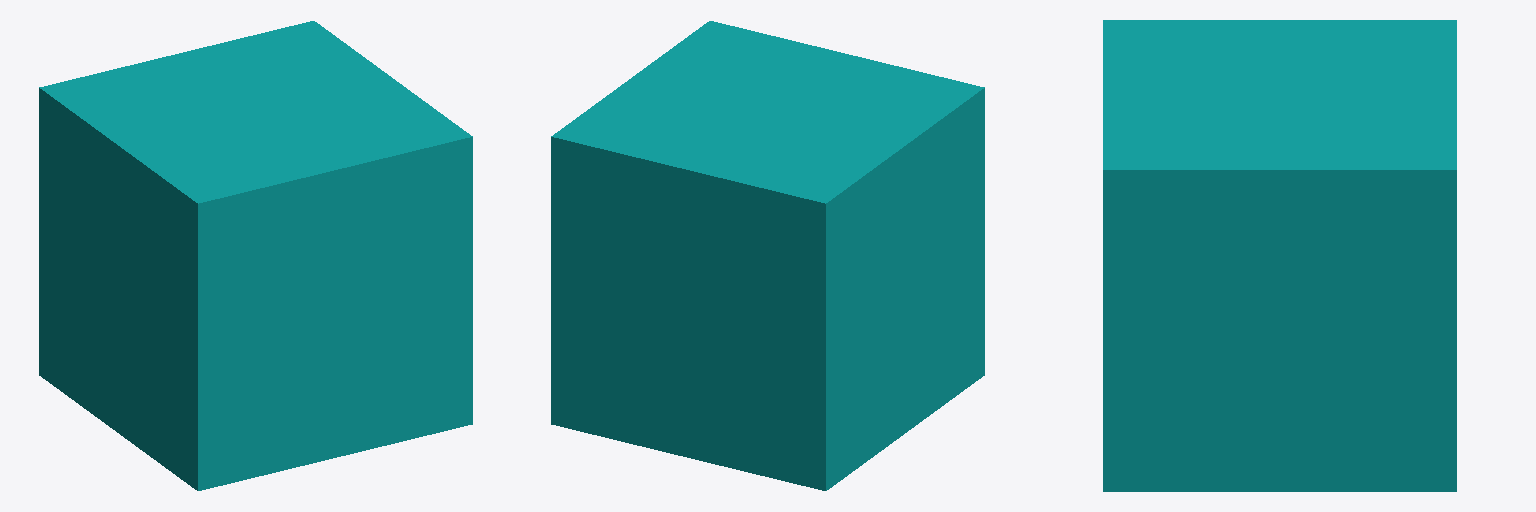
URDF robot description (cube_1_large):
<?xml version="1.0" ?>
<robot name="cube_1_large">
    <link name="cube_link_1_large">
        <inertial>
            <origin rpy="0 0 0" xyz="0.0 0.0 0.0"/>

            <mass value="2.5"/>

            <!-- Solid cube: I = m*s^2/6  s=0.16 m, m=2.5 kg -->
            <!-- I = 2.5 * 0.16^2 / 6 = 2.5 * 0.0256 / 6 = 0.010667 kg*m^2 -->
            <inertia
                ixx="0.010667"
                ixy="0.0"
                ixz="0.0"
                iyy="0.010667"
                iyz="0.0"
                izz="0.010667"/>
        </inertial>

        <visual>
            <origin rpy="0 0 0" xyz="0 0 0"/>
            <geometry>
                <box size="0.16 0.16 0.16"/>
            </geometry>
            <material name="Cyan">
                <color rgba="0.1 0.7 0.7 1.0"/>
            </material>
        </visual>

        <collision>
            <origin rpy="0 0 0" xyz="0 0 0"/>
            <geometry>
                <box size="0.16 0.16 0.16"/>
            </geometry>
        </collision>
    </link>
</robot>

--- What the picture shows (computed from the rendered views, not written in the file) ---
3 views of the same robot in one strip: view 1: azimuth 30°, elevation 25°; view 2: azimuth 150°, elevation 25°; view 3: azimuth 270°, elevation 25° (orthographic).
Model cube_1_large with 1 links and 0 joints (none), rooted at cube_link_1_large, posed all joints at 0.
Visible links, largest first — view 1: cube_link_1_large; view 2: cube_link_1_large; view 3: cube_link_1_large.
Boxes of the visible links, x1=… form: cube_link_1_large: x1=39, y1=21, x2=472, y2=490; cube_link_1_large: x1=551, y1=21, x2=984, y2=490; cube_link_1_large: x1=1103, y1=20, x2=1456, y2=491.
Size in the robot's own frame: 0.16 by 0.16 by 0.16 metres.
Geometry: primitives only (box / cylinder / sphere), no mesh files.
